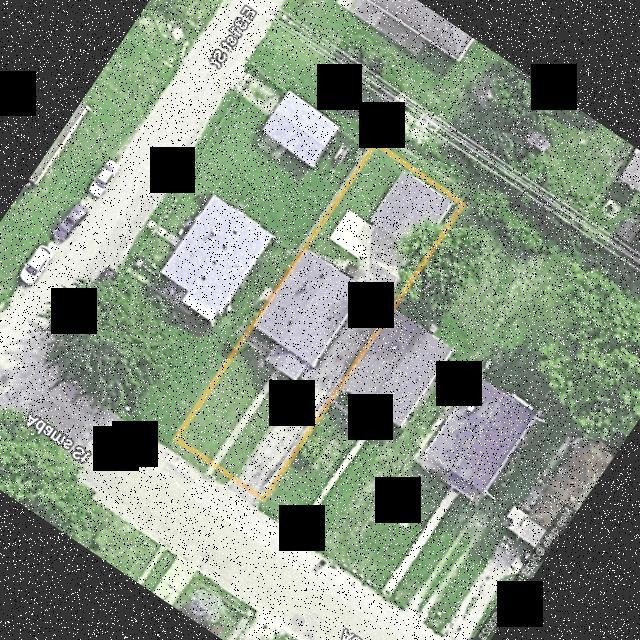Driveway: (236, 210, 401, 498), (214, 369, 281, 463)
Extra Driveway: (223, 479, 260, 508)
Extra Lawn: (168, 439, 210, 473), (212, 469, 232, 484), (258, 500, 265, 511)
House: (256, 250, 365, 380)
Other: (372, 171, 453, 251), (314, 251, 358, 276), (246, 335, 271, 357)
